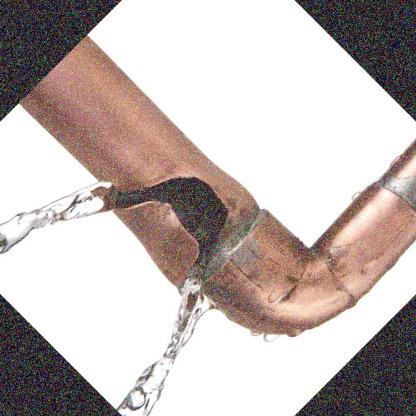burst: (80, 148, 234, 314)
